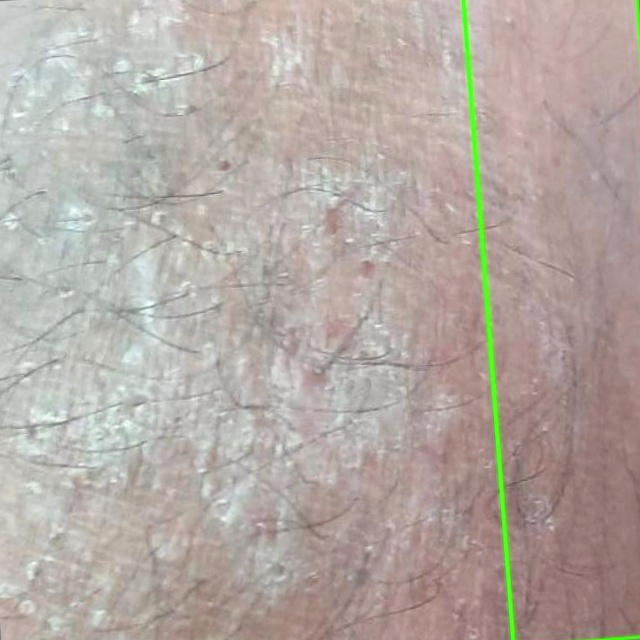Contact Dermatitis: (463, 0, 639, 639)
